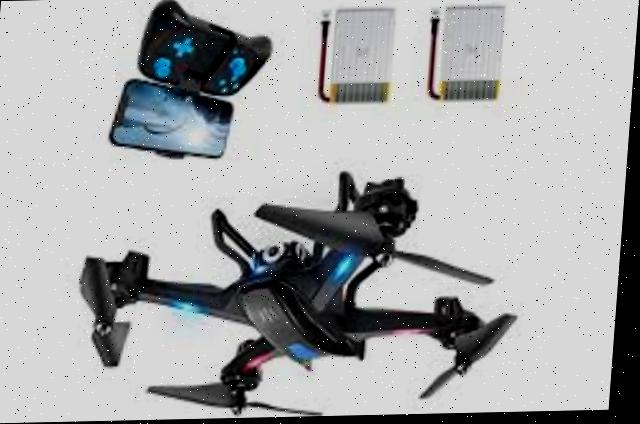drone: (43, 164, 542, 423)
